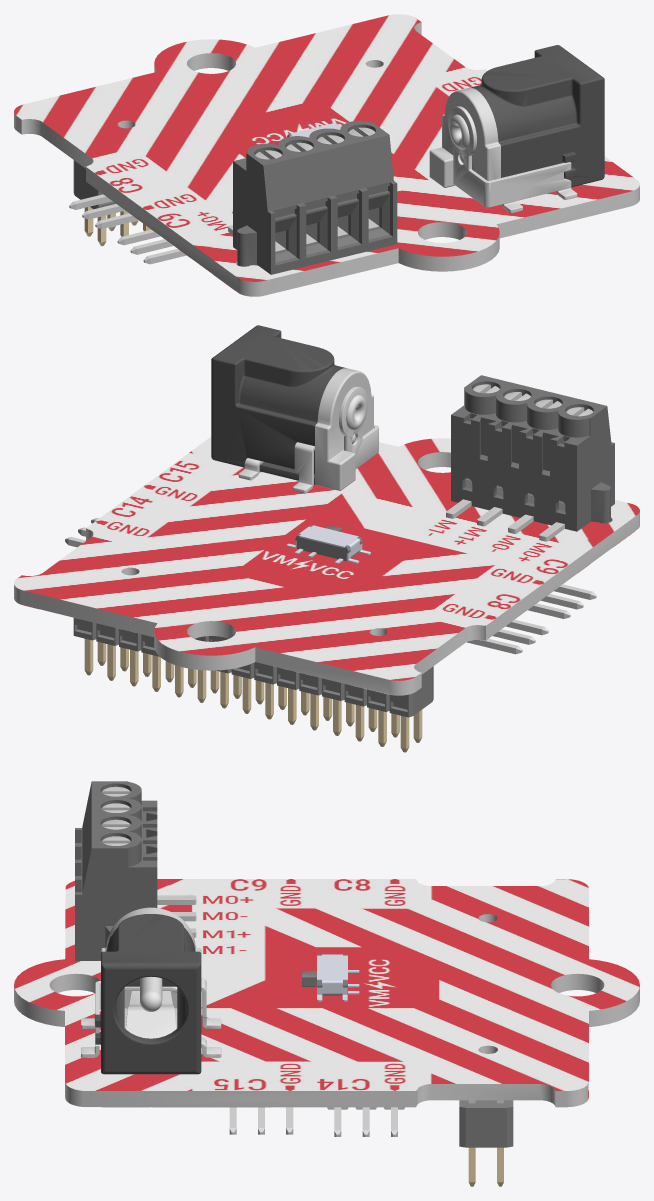
The model's file is servoboard.glb.
The picture shows the model from 3 angles, top to bottom: view 1: azimuth 30°, elevation 25°; view 2: azimuth 150°, elevation 25°; view 3: azimuth 270°, elevation 25°; orthographic projection. The views are drawn at different scales.
Parts seen in each view (by area): view 1: sb_pcb, sb_parts, servo_C9, servo_C8; view 2: sb_pcb, sb_parts, servo_C8, servo_C9; view 3: sb_pcb, sb_parts, servo_C14, servo_C15.
Boxes of the visible parts, x1=… form: sb_pcb: x1=14, y1=14, x2=639, y2=296; sb_parts: x1=73, y1=45, x2=604, y2=274; servo_C9: x1=117, y1=229, x2=186, y2=264; servo_C8: x1=69, y1=194, x2=138, y2=228; sb_pcb: x1=14, y1=437, x2=639, y2=695; sb_parts: x1=73, y1=325, x2=614, y2=752; servo_C8: x1=466, y1=619, x2=548, y2=654; servo_C9: x1=528, y1=584, x2=596, y2=618; sb_pcb: x1=14, y1=879, x2=639, y2=1107; sb_parts: x1=75, y1=781, x2=513, y2=1186; servo_C14: x1=327, y1=1107, x2=404, y2=1136; servo_C15: x1=229, y1=1107, x2=293, y2=1134.
Size of the model in its own units: 5.14 by 2.28 by 5.62.
12 materials, 2 textured.
